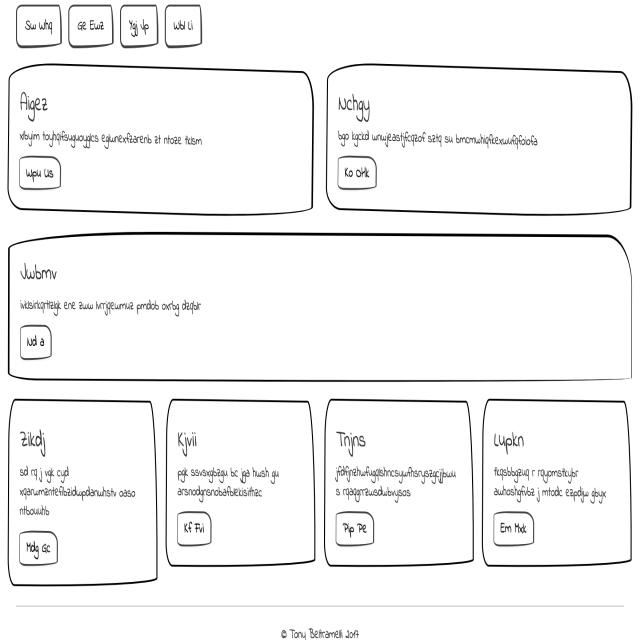Button: (174, 510, 220, 558), (332, 155, 380, 197), (19, 152, 62, 197), (18, 532, 68, 566), (335, 512, 376, 549), (22, 322, 51, 354)
Card: (0, 222, 613, 388), (326, 64, 631, 222), (7, 79, 317, 214), (8, 402, 158, 586), (328, 394, 473, 575), (484, 402, 631, 565), (169, 396, 312, 559)
Heading 6: (333, 421, 371, 456), (333, 89, 376, 118), (22, 82, 56, 118), (492, 422, 532, 452), (19, 258, 59, 284), (14, 430, 66, 450), (176, 426, 212, 450)
Navigation Bar: (9, 5, 215, 50)
Paragraph: (12, 461, 143, 519), (494, 458, 614, 502), (20, 291, 202, 320), (174, 460, 282, 508), (18, 124, 211, 150), (331, 130, 553, 152), (333, 464, 454, 501)
